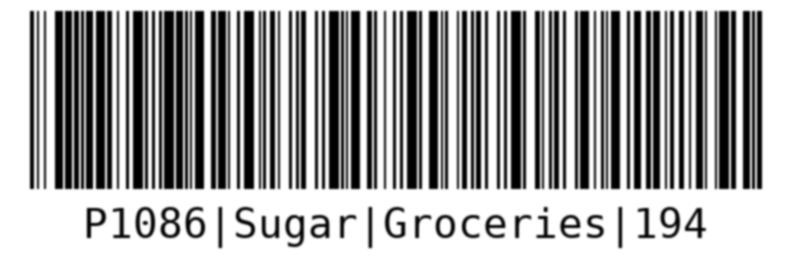milk: (23, 0, 772, 280)
